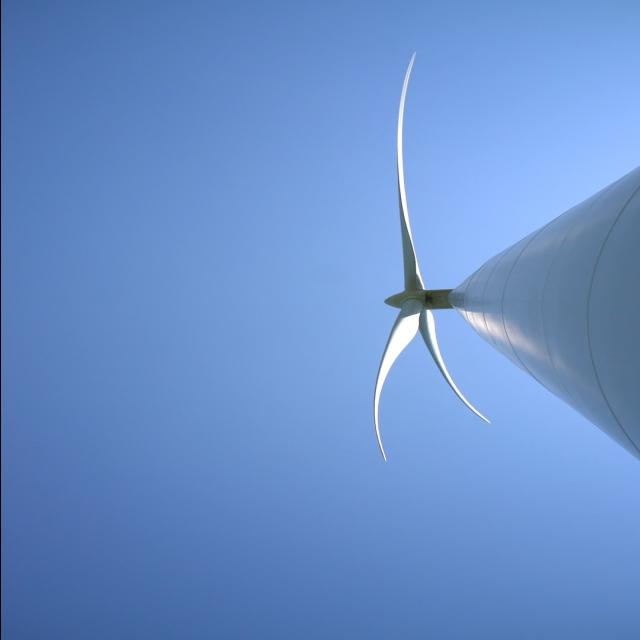blade 1: (428, 324, 501, 428)
blade 2: (364, 13, 424, 285)
blade 3: (361, 334, 422, 602)
